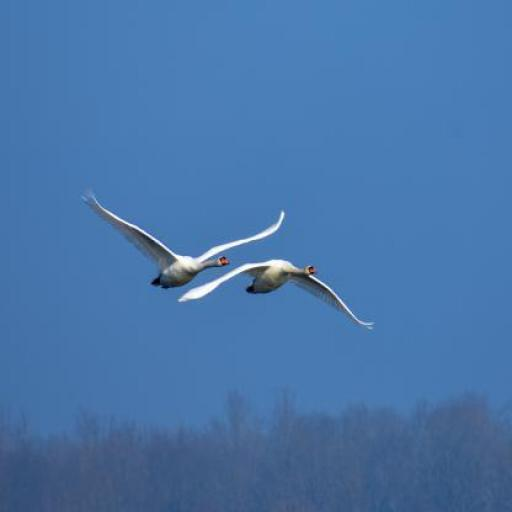bird: (86, 191, 287, 293), (180, 261, 373, 337)
